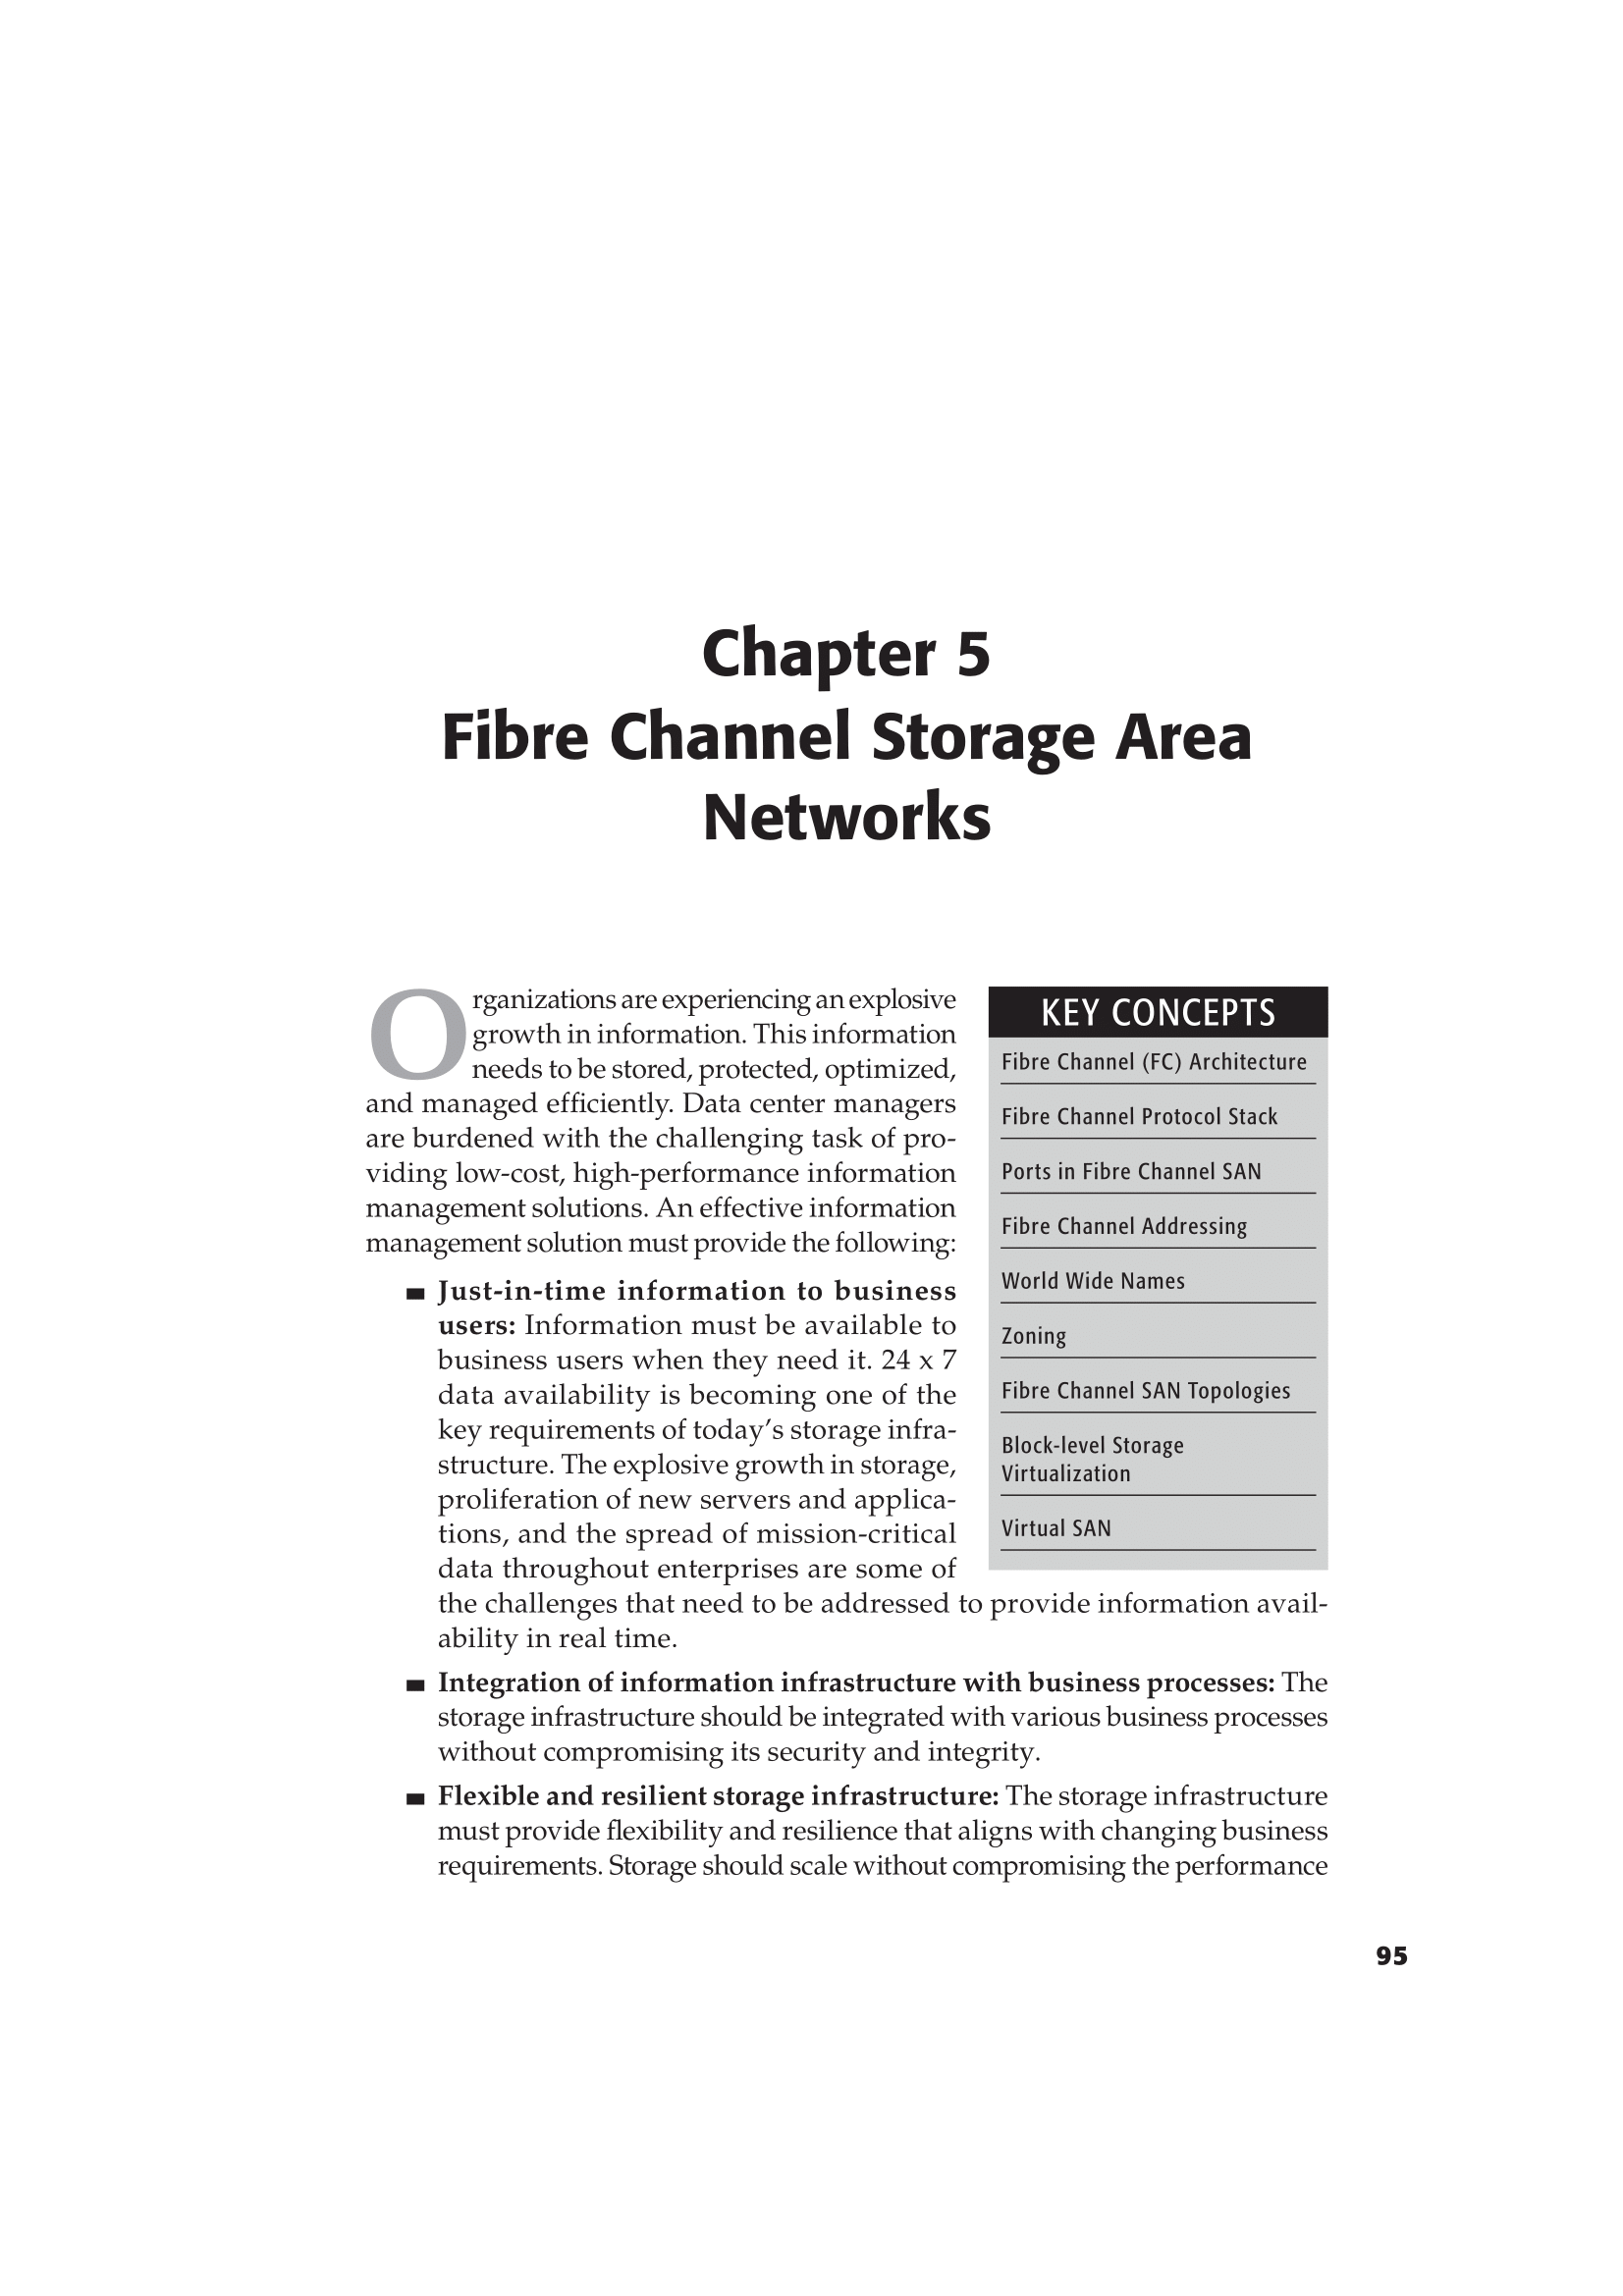Paragraph: (343, 981, 973, 1269), (434, 1278, 968, 1589), (416, 685, 1279, 858), (434, 1766, 1351, 1903), (429, 1675, 1351, 1762), (434, 1594, 1333, 1662), (671, 630, 1059, 685), (991, 1420, 1201, 1492), (985, 1195, 1282, 1246), (985, 1087, 1296, 1132), (985, 1146, 1288, 1192), (1019, 987, 1293, 1036), (996, 1378, 1305, 1415), (996, 1050, 1324, 1081), (991, 1264, 1219, 1301), (985, 1497, 1128, 1552), (991, 1306, 1087, 1355)
